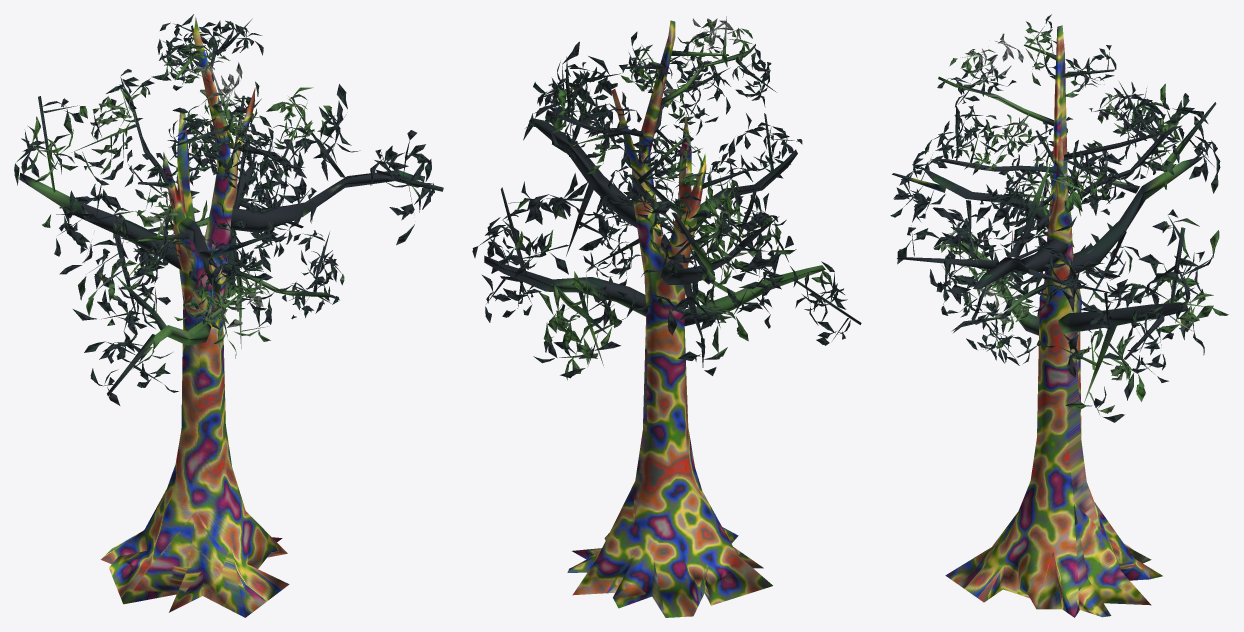
The model's file is rainbow.glb.
The picture shows the model from 3 angles, left to right: view 1: azimuth 30°, elevation 25°; view 2: azimuth 150°, elevation 25°; view 3: azimuth 270°, elevation 25°; orthographic projection.
Size of the model in its own units: 7.32 by 11.65 by 6.45.
Materials: 1 (1 with a texture image).
